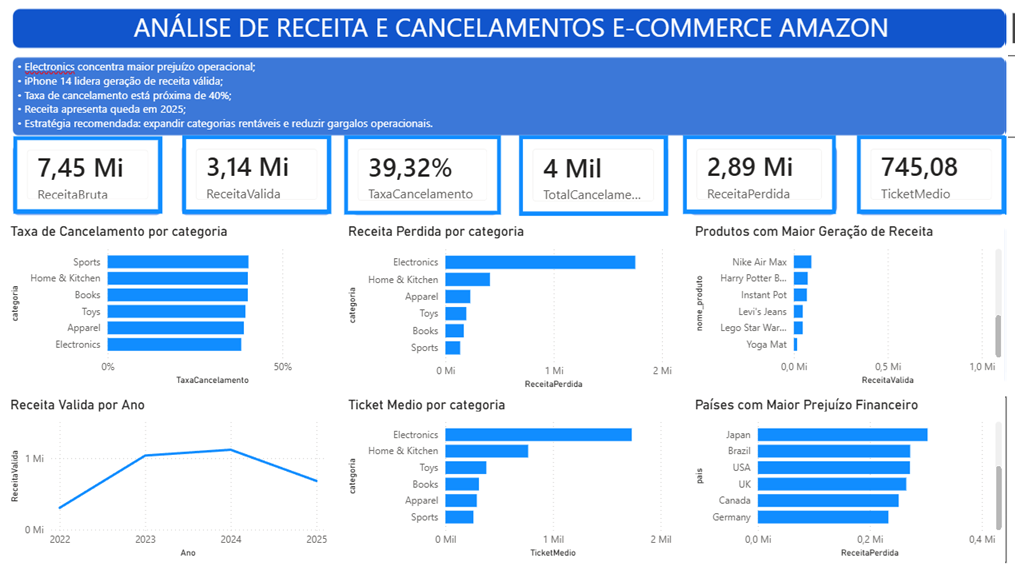

What the dashboard file says about the page in this screenshot:
{"tool":"powerbi","page":{"name":"Página 1","canvas":[1280,720],"ordinal":0},"visuals":[{"type":"cardVisual","fields":{"Data":["f_ecommerce_amazon.ReceitaBruta"]},"box":[18.4,173,186.5,96.9],"z":0},{"type":"cardVisual","fields":{"Data":["f_ecommerce_amazon.ReceitaValida"]},"box":[229.4,171.8,186.5,98.2],"z":1000},{"type":"cardVisual","fields":{"Data":["f_ecommerce_amazon.ReceitaPerdida"]},"box":[856.4,171.8,191.4,98.2],"z":2000},{"type":"cardVisual","fields":{"Data":["f_ecommerce_amazon.TaxaCancelamento"]},"box":[431.9,171.8,196.3,99.4],"z":3000},{"type":"cardVisual","fields":{"Data":["f_ecommerce_amazon.TicketMedio"]},"box":[1073.6,171.8,186.5,98.2],"z":4000},{"type":"cardVisual","fields":{"Data":["f_ecommerce_amazon.TotalCancelamentos"]},"box":[651.5,171.8,186.5,100.6],"z":5000},{"type":"clusteredBarChart","title":"Taxa de Cancelamento por categoria","fields":{"Category":["f_ecommerce_amazon.categoria"],"Y":["f_ecommerce_amazon.TaxaCancelamento"]},"box":[9.8,281,406.1,207.4],"z":6000},{"type":"barChart","title":"Receita Perdida por categoria","fields":{"Category":["f_ecommerce_amazon.categoria"],"Y":["f_ecommerce_amazon.ReceitaPerdida"]},"box":[431.9,281,414.7,212.3],"z":7000},{"type":"clusteredBarChart","title":"Produtos com Maior Geração de Receita","fields":{"Category":["f_ecommerce_amazon.nome_produto"],"Y":["f_ecommerce_amazon.ReceitaValida"]},"box":[866.3,281,393.9,207.4],"z":8000},{"type":"textbox","box":[18.8,11.2,1261.2,50],"z":9000},{"type":"lineChart","title":"Receita Valida por Ano","fields":{"Category":["f_ecommerce_amazon.data_compra.Variation.Hierarquia de datas.Ano","f_ecommerce_amazon.data_compra.Variation.Hierarquia de datas.Trimestre","f_ecommerce_amazon.data_compra.Variation.Hierarquia de datas.Mês","f_ecommerce_amazon.data_compra.Variation.Hierarquia de datas.Dia"],"Y":["f_ecommerce_amazon.ReceitaValida"]},"box":[10,498,406,207],"z":10000},{"type":"clusteredBarChart","title":"Ticket Medio por categoria","fields":{"Category":["f_ecommerce_amazon.categoria"],"Y":["f_ecommerce_amazon.TicketMedio"]},"box":[432,498,415,207],"z":11000},{"type":"clusteredBarChart","title":"Países com Maior Prejuízo Financeiro","fields":{"Category":["f_ecommerce_amazon.pais"],"Y":["f_ecommerce_amazon.ReceitaPerdida"]},"box":[866,498,394,207],"z":12000},{"type":"textbox","box":[18.3,71.7,1261.7,101.7],"z":13000}]}

Visuals, with their boxes in screenshot pixels (x1, y1, x2, y2), scaled from the page's 1280x720 canvas onto the 1015x570 screenshot:
cardVisual - f_ecommerce_amazon.ReceitaBruta: l=15, t=137, r=162, b=214
cardVisual - f_ecommerce_amazon.ReceitaValida: l=182, t=136, r=330, b=214
cardVisual - f_ecommerce_amazon.ReceitaPerdida: l=679, t=136, r=831, b=214
cardVisual - f_ecommerce_amazon.TaxaCancelamento: l=342, t=136, r=498, b=215
cardVisual - f_ecommerce_amazon.TicketMedio: l=851, t=136, r=999, b=214
cardVisual - f_ecommerce_amazon.TotalCancelamentos: l=517, t=136, r=665, b=216
"Taxa de Cancelamento por categoria" clusteredBarChart: l=8, t=222, r=330, b=387
"Receita Perdida por categoria" barChart: l=342, t=222, r=671, b=391
"Produtos com Maior Geração de Receita" clusteredBarChart: l=687, t=222, r=999, b=387
textbox: l=15, t=9, r=1014, b=48
"Receita Valida por Ano" lineChart: l=8, t=394, r=330, b=558
"Ticket Medio por categoria" clusteredBarChart: l=343, t=394, r=672, b=558
"Países com Maior Prejuízo Financeiro" clusteredBarChart: l=687, t=394, r=999, b=558
textbox: l=15, t=57, r=1014, b=137
